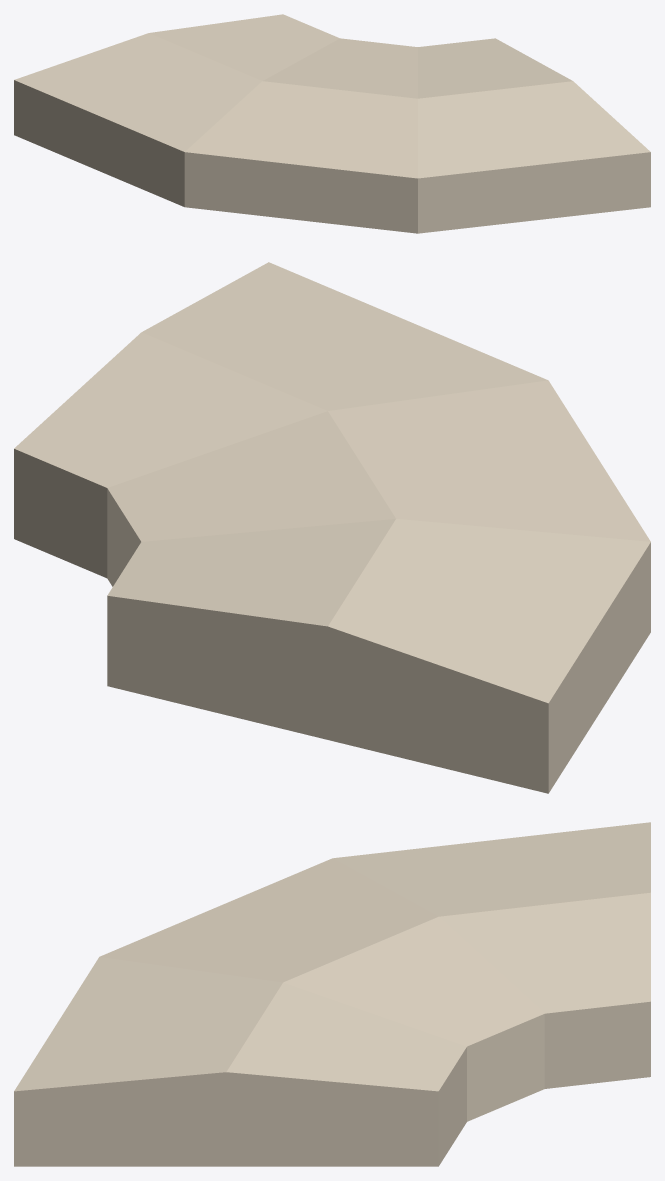
The model's file is Dirt_Gathered_Corner.glb.
3 views of the same model, one above another, from view 1: azimuth 30°, elevation 25°; view 2: azimuth 150°, elevation 25°; view 3: azimuth 270°, elevation 25° (orthographic). The views are drawn at different scales.
Parts seen in each view (by area): view 1: object1; view 2: object1; view 3: object1.
Part boxes in pixels (x1,y1,x2,y2): object1: (14, 14, 650, 233); object1: (14, 262, 650, 793); object1: (14, 822, 650, 1166).
Size of the model in its own units: 1.5 by 0.2458 by 1.5.
